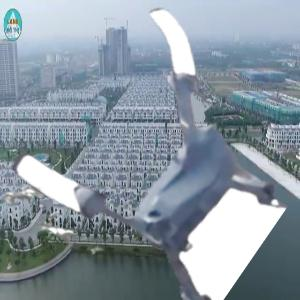drone: (34, 21, 299, 286)
